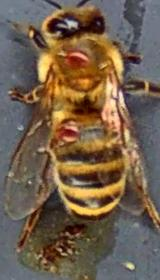varroa_mite: (101, 94, 137, 136), (54, 44, 98, 74), (43, 118, 78, 145)
